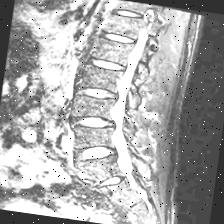disc: (80, 49, 129, 77), (91, 168, 129, 194), (100, 29, 139, 49)
hdisc: (74, 78, 124, 108), (73, 110, 121, 137), (71, 140, 123, 164)
